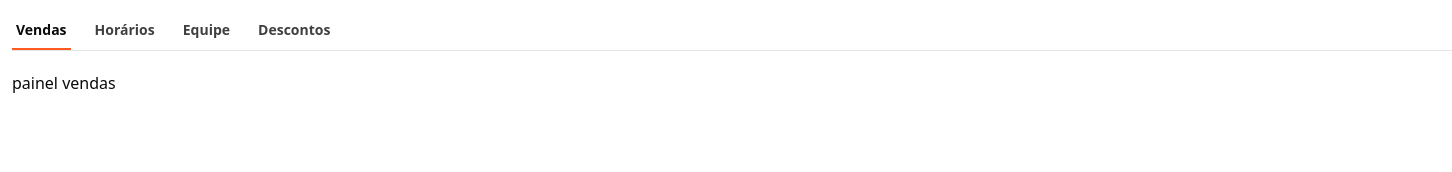
Test: AbasResultados › mostra o painel da aba inicial e troca para outra no clique, sem recarregar
Expected: the text "painel vendas" is shown, 12,72 -> 116,94
Expected: the text "painel equipe" is not shown
Note: Clicar em Equipe troca o painel no cliente (sem navegação de servidor).
Click the button "Equipe" at [206, 31], box 179,12 -> 234,50
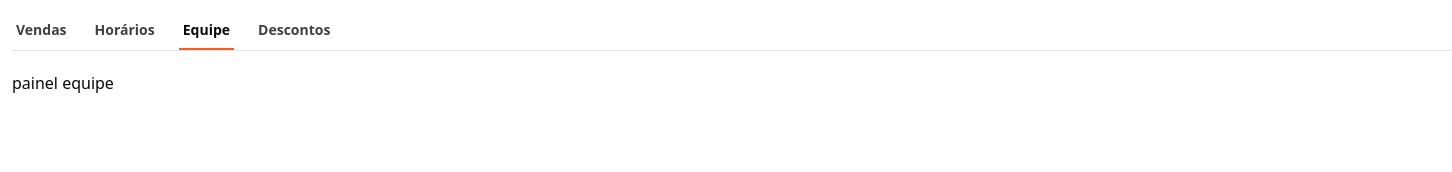
Now the text "painel equipe" is shown, box 12,72 -> 114,94
Now the text "painel vendas" is gone
